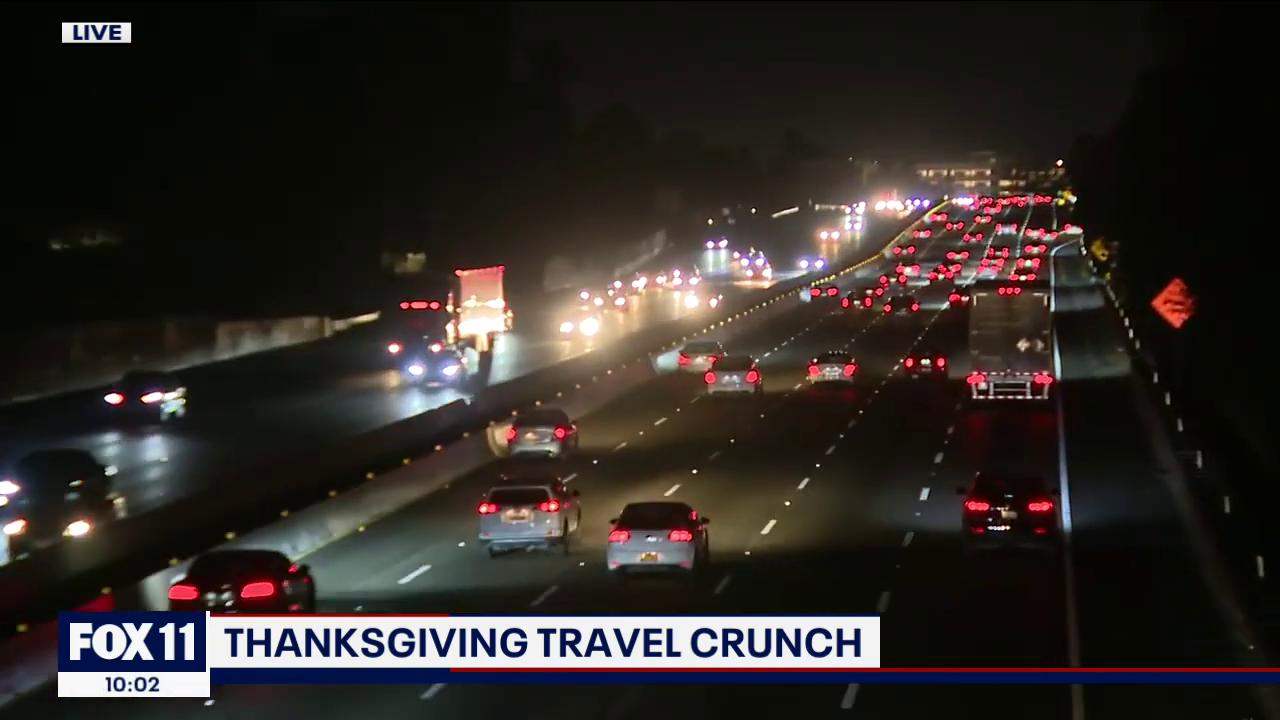car: (958, 458, 1064, 544), (479, 476, 589, 555), (609, 498, 712, 574), (496, 407, 580, 449), (709, 356, 765, 399), (805, 349, 856, 388), (901, 346, 950, 385), (679, 341, 726, 372)
truck: (966, 278, 1055, 403)
